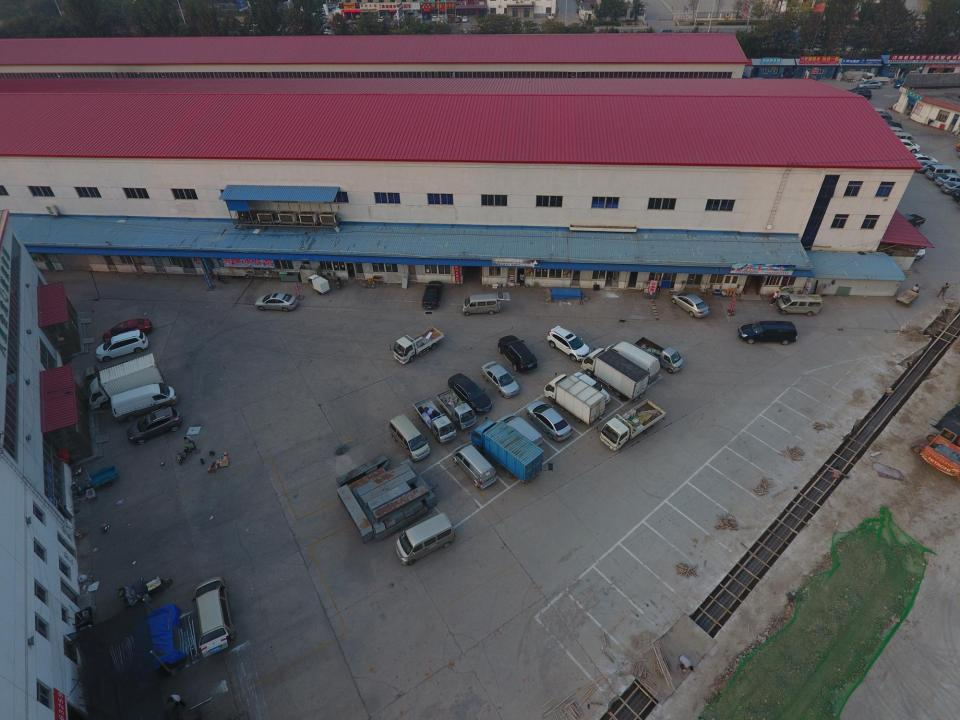car: (87, 353, 165, 407), (195, 578, 235, 650), (109, 383, 180, 419), (602, 340, 660, 382), (447, 373, 493, 415), (125, 408, 181, 441), (526, 401, 569, 441), (479, 360, 520, 398), (94, 331, 148, 359), (548, 323, 588, 360), (736, 320, 796, 344), (497, 414, 541, 445), (498, 336, 535, 370), (103, 318, 152, 342), (670, 290, 706, 317), (256, 292, 296, 310), (421, 279, 444, 309)
truck: (471, 420, 546, 484), (596, 398, 666, 455), (582, 346, 647, 400), (545, 374, 605, 424), (413, 396, 457, 442), (393, 324, 444, 362), (633, 336, 684, 371), (434, 388, 474, 430)
van: (395, 514, 454, 566), (388, 412, 432, 459), (453, 444, 497, 488), (776, 294, 821, 316), (460, 294, 499, 316)
